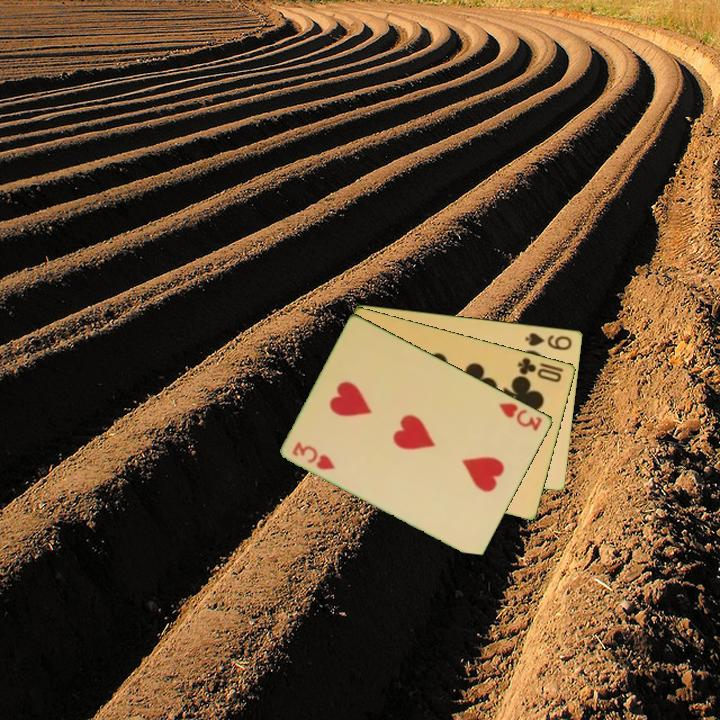10c: (514, 354, 567, 385)
3h: (495, 399, 546, 434), (289, 438, 339, 473)
9s: (522, 329, 575, 353)
